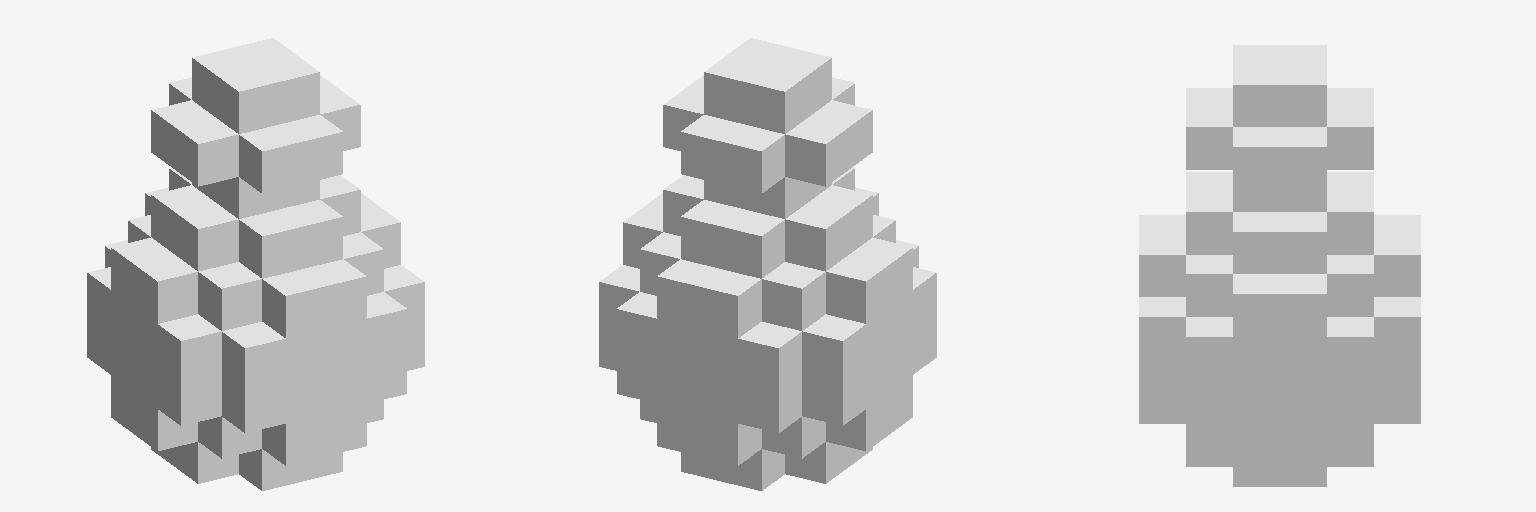
Rendered from PotionsPickUps-0.obj.
3 views of the same model, side by side, from view 1: azimuth 30°, elevation 25°; view 2: azimuth 150°, elevation 25°; view 3: azimuth 270°, elevation 25° (orthographic).
Parts seen in each view (by area): view 1: PotionsPickUps-0; view 2: PotionsPickUps-0; view 3: PotionsPickUps-0.
Part boxes in pixels (x1,y1,x2,y2): PotionsPickUps-0: (87, 38, 424, 490); PotionsPickUps-0: (599, 38, 936, 490); PotionsPickUps-0: (1139, 45, 1420, 486).
Bounding box in the file's own units: 6 × 9 × 6.